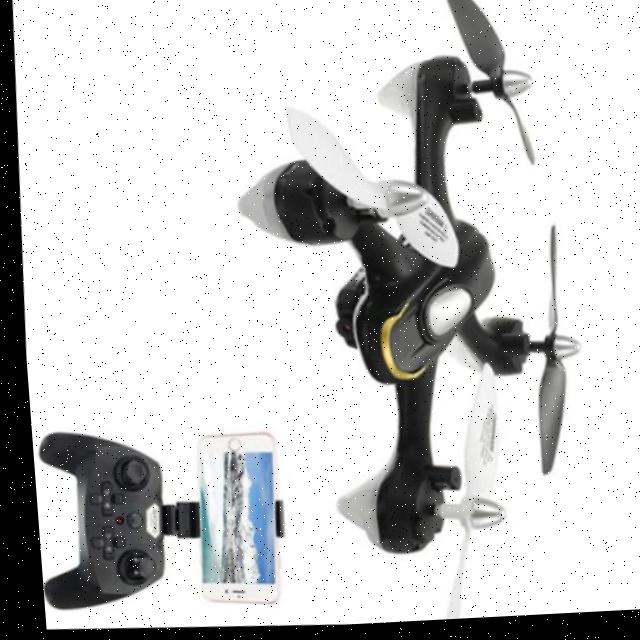drones: (202, 0, 609, 632)
